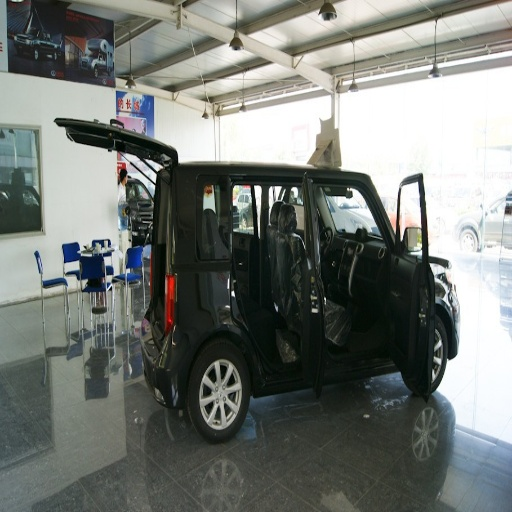trunk: (206, 94, 272, 139)
